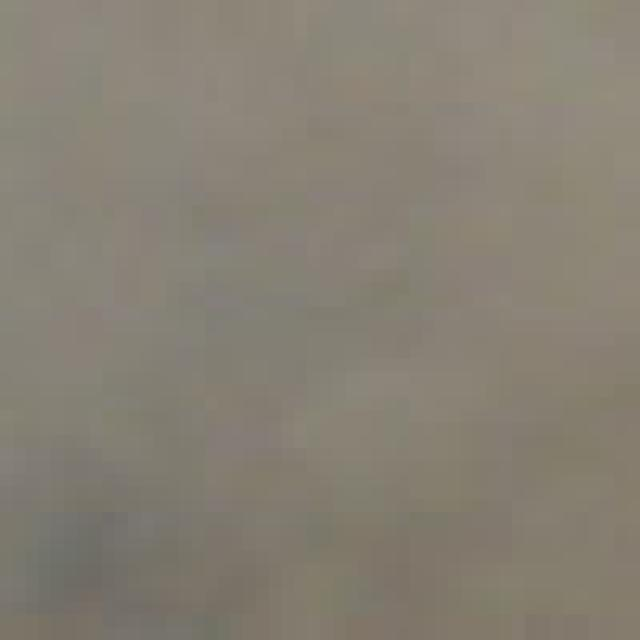fire: (0, 8, 640, 630)
